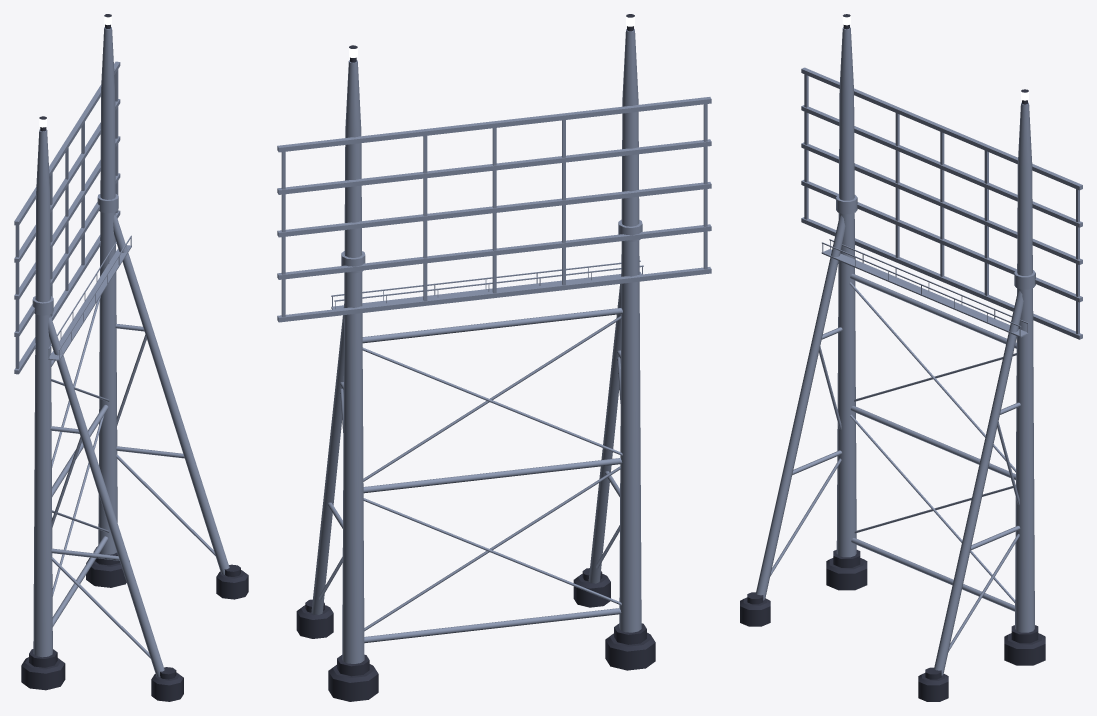
The model's file is roof_corner_screen_steel_nw.glb.
The picture shows the model from 3 angles, left to right: view 1: azimuth 30°, elevation 25°; view 2: azimuth 150°, elevation 25°; view 3: azimuth 270°, elevation 25°; orthographic projection. The views are drawn at different scales.
Parts seen in each view (by area): view 1: roof_corner_screen_steel_nw; view 2: roof_corner_screen_steel_nw; view 3: roof_corner_screen_steel_nw.
Boxes of the visible parts, <box> form: roof_corner_screen_steel_nw: <box>14,14,248,701</box>; roof_corner_screen_steel_nw: <box>277,14,711,701</box>; roof_corner_screen_steel_nw: <box>740,14,1082,701</box>.
Bounding box in the file's own units: 35.37 × 64.56 × 35.37.
